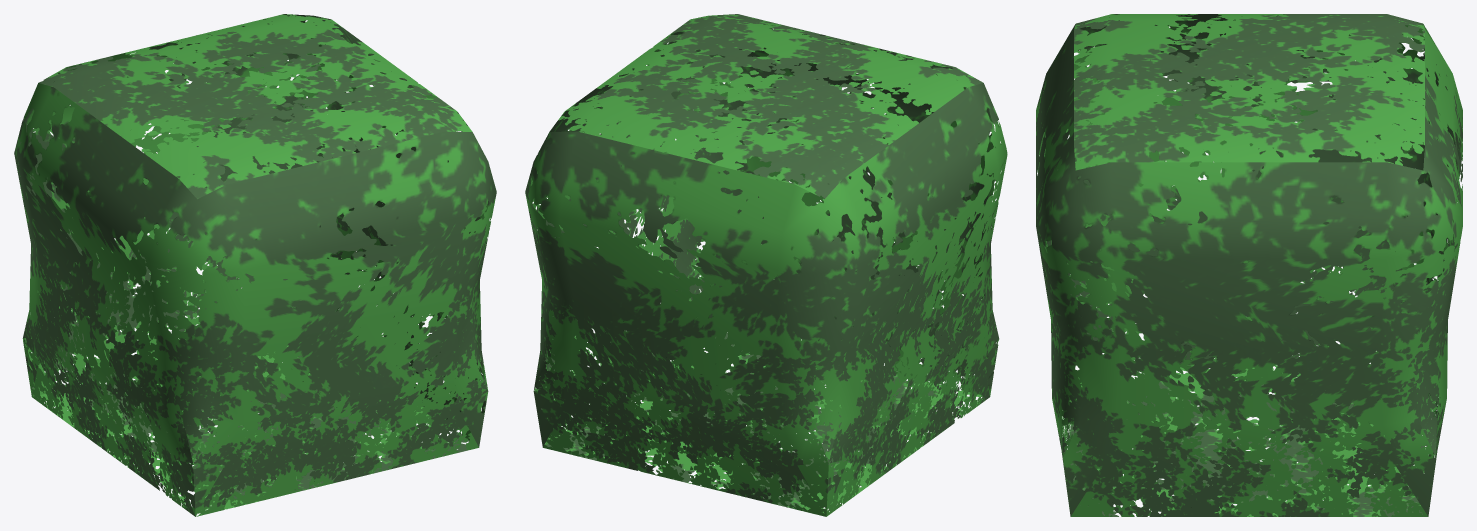
The model's file is blockLeaves.obj.
3 renders of one model, left to right at view 1: azimuth 30°, elevation 25°; view 2: azimuth 150°, elevation 25°; view 3: azimuth 270°, elevation 25°, orthographic. The views are drawn at different scales.
Visible parts, largest first — view 1: blockLeaves; view 2: blockLeaves; view 3: blockLeaves.
Part boxes in pixels (left/top/right/bottom): blockLeaves: left=14, top=14, right=496, bottom=516; blockLeaves: left=525, top=14, right=1007, bottom=516; blockLeaves: left=1036, top=14, right=1462, bottom=516.
Bounding box in the file's own units: 1.08 × 1.01 × 1.08.
1 material, 1 textured.
